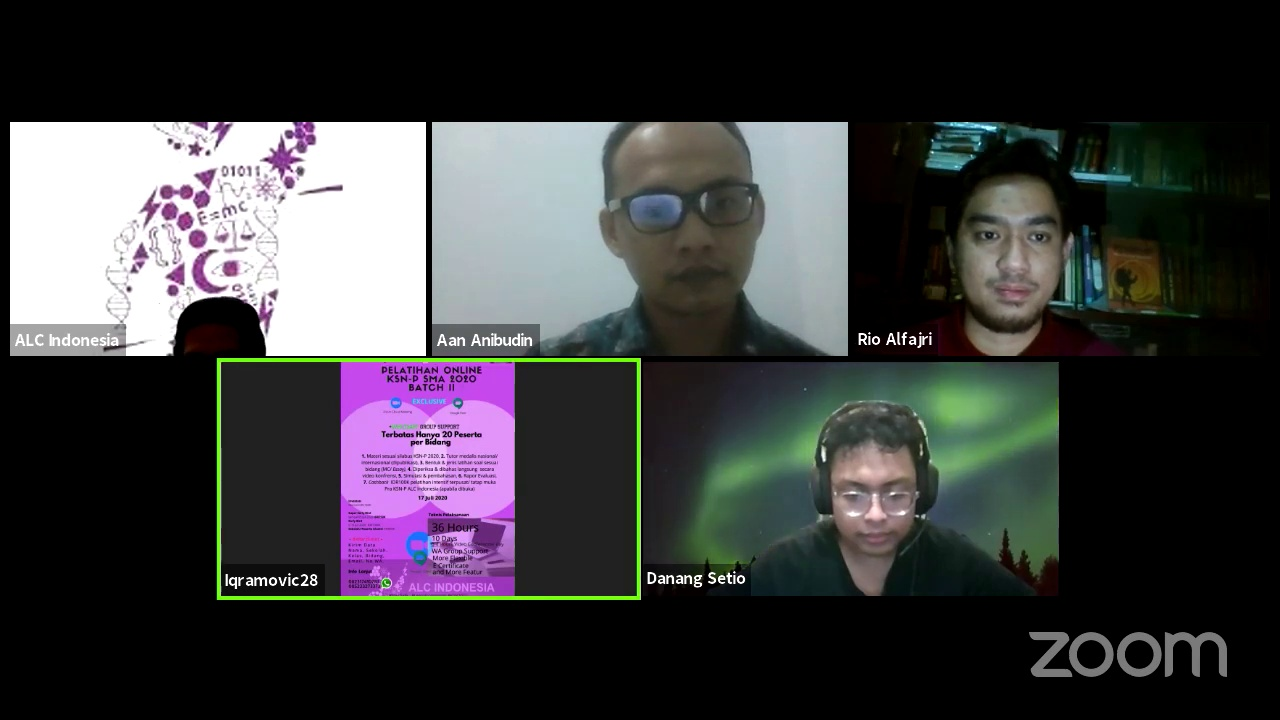Distracted: (802, 421, 947, 557)
Not Distracted: (589, 141, 780, 312), (935, 158, 1080, 330)
